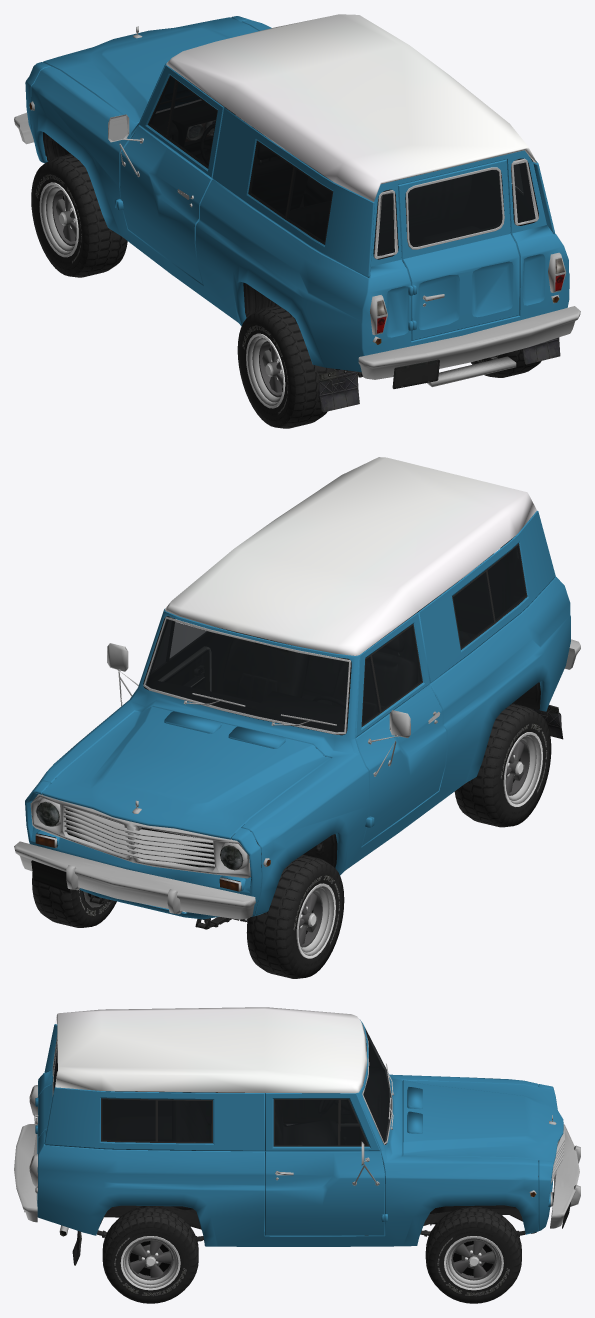
Rendered from car3_wagon_60s.glb.
3 views of the same model, one above another, from view 1: azimuth 30°, elevation 25°; view 2: azimuth 150°, elevation 25°; view 3: azimuth 270°, elevation 25° (orthographic). The views are drawn at different scales.
Visible parts, largest first — view 1: Bokaroo67_Body_BUCKAROO_67_Bodymat_0, Bokaroo67_Bottom_UCB_BOTTOM_0, Bokaroo67_Interior_UCB_Interiors_2_0, Bokaroo67_Hood_BUCKAROO_67_Bodymat_0, Bokaroo67_WheelStock_RL_RO1a_Tire_0, Bokaroo67_WheelStock_FL_RO1a_Tire_0, Bokaroo67_Bodyglass_UCB_Lights_and_Glass_Transperent_0, Bokaroo67_Bumper_rear_UCB_BOTTOM_0, Bokaroo67_rear_door_glass_UCB_Lights_and_Glass_Transperent_0, Bokaroo67_Glass_Driver_UCB_Lights_and_Glass_Transperent_0, Bokaroo67_rear_door_inner_UCB_BOTTOM_0, Bokaroo67_WheelStock_RR_RO1a_Tire_0; view 2: Bokaroo67_Bottom_UCB_BOTTOM_0, Bokaroo67_Body_BUCKAROO_67_Bodymat_0, Bokaroo67_Hood_BUCKAROO_67_Bodymat_0, Bokaroo67_Interior_UCB_Interiors_2_0, Bokaroo67_Windshield_UCB_Lights_and_Glass_Transperent_0, Bokaroo67_WheelStock_FL_RO1a_Tire_0, Bokaroo67_WheelStock_RL_RO1a_Tire_0, Bokaroo67_Bumper_Front_UCB_BOTTOM_0, Bokaroo67_Bodyglass_UCB_Lights_and_Glass_Transperent_0, Bokaroo67_Glass_Driver_UCB_Lights_and_Glass_Transperent_0, Bokaroo67_rear_door_doorcard_UCB_Interiors_2_0, Bokaroo67_WheelStock_FR_RO1a_Tire_0 (+1 smaller); view 3: Bokaroo67_Body_BUCKAROO_67_Bodymat_0, Bokaroo67_Bottom_UCB_BOTTOM_0, Bokaroo67_Hood_BUCKAROO_67_Bodymat_0, Bokaroo67_Interior_UCB_Interiors_2_0, Bokaroo67_WheelStock_RR_RO1a_Tire_0, Bokaroo67_WheelStock_FR_RO1a_Tire_0, Bokaroo67_Bodyglass_UCB_Lights_and_Glass_Transperent_0, Bokaroo67_Glass_Passenger_UCB_Lights_and_Glass_Transperent_0, Bokaroo67_Bumper_Front_UCB_BOTTOM_0, Bokaroo67_Windshield_UCB_Lights_and_Glass_Transperent_0, Bokaroo67_Bumper_rear_UCB_BOTTOM_0.
Boxes of the visible parts, x1=… form: Bokaroo67_Body_BUCKAROO_67_Bodymat_0: x1=25, y1=16, x2=569, y2=372; Bokaroo67_Bottom_UCB_BOTTOM_0: x1=29, y1=14, x2=566, y2=412; Bokaroo67_Interior_UCB_Interiors_2_0: x1=151, y1=101, x2=538, y2=259; Bokaroo67_Hood_BUCKAROO_67_Bodymat_0: x1=43, y1=17, x2=258, y2=123; Bokaroo67_WheelStock_RL_RO1a_Tire_0: x1=237, y1=305, x2=333, y2=428; Bokaroo67_WheelStock_FL_RO1a_Tire_0: x1=31, y1=154, x2=127, y2=277; Bokaroo67_Bodyglass_UCB_Lights_and_Glass_Transperent_0: x1=149, y1=77, x2=535, y2=255; Bokaroo67_Bumper_rear_UCB_BOTTOM_0: x1=358, y1=306, x2=580, y2=388; Bokaroo67_rear_door_glass_UCB_Lights_and_Glass_Transperent_0: x1=408, y1=170, x2=502, y2=246; Bokaroo67_Glass_Driver_UCB_Lights_and_Glass_Transperent_0: x1=168, y1=82, x2=216, y2=166; Bokaroo67_rear_door_inner_UCB_BOTTOM_0: x1=402, y1=167, x2=504, y2=306; Bokaroo67_WheelStock_RR_RO1a_Tire_0: x1=471, y1=349, x2=541, y2=377; Bokaroo67_Bottom_UCB_BOTTOM_0: x1=30, y1=457, x2=563, y2=913; Bokaroo67_Body_BUCKAROO_67_Bodymat_0: x1=25, y1=510, x2=570, y2=919; Bokaroo67_Hood_BUCKAROO_67_Bodymat_0: x1=42, y1=706, x2=330, y2=839; Bokaroo67_Interior_UCB_Interiors_2_0: x1=143, y1=536, x2=526, y2=735; Bokaroo67_Windshield_UCB_Lights_and_Glass_Transperent_0: x1=145, y1=619, x2=348, y2=732; Bokaroo67_WheelStock_FL_RO1a_Tire_0: x1=246, y1=854, x2=344, y2=978; Bokaroo67_WheelStock_RL_RO1a_Tire_0: x1=454, y1=703, x2=551, y2=827; Bokaroo67_Bumper_Front_UCB_BOTTOM_0: x1=14, y1=841, x2=255, y2=919; Bokaroo67_Bodyglass_UCB_Lights_and_Glass_Transperent_0: x1=152, y1=545, x2=526, y2=724; Bokaroo67_Glass_Driver_UCB_Lights_and_Glass_Transperent_0: x1=372, y1=625, x2=421, y2=710; Bokaroo67_rear_door_doorcard_UCB_Interiors_2_0: x1=418, y1=542, x2=508, y2=633; Bokaroo67_WheelStock_FR_RO1a_Tire_0: x1=32, y1=872, x2=116, y2=927; Bokaroo67_Body_BUCKAROO_67_Bodymat_0: x1=35, y1=1020, x2=553, y2=1246; Bokaroo67_Bottom_UCB_BOTTOM_0: x1=24, y1=1007, x2=564, y2=1265; Bokaroo67_Hood_BUCKAROO_67_Bodymat_0: x1=402, y1=1080, x2=563, y2=1162; Bokaroo67_Interior_UCB_Interiors_2_0: x1=55, y1=1037, x2=388, y2=1164; Bokaroo67_WheelStock_RR_RO1a_Tire_0: x1=102, y1=1206, x2=198, y2=1303; Bokaroo67_WheelStock_FR_RO1a_Tire_0: x1=425, y1=1206, x2=521, y2=1303; Bokaroo67_Bodyglass_UCB_Lights_and_Glass_Transperent_0: x1=53, y1=1039, x2=367, y2=1145; Bokaroo67_Glass_Passenger_UCB_Lights_and_Glass_Transperent_0: x1=275, y1=1100, x2=338, y2=1145; Bokaroo67_Bumper_Front_UCB_BOTTOM_0: x1=550, y1=1124, x2=580, y2=1228; Bokaroo67_Windshield_UCB_Lights_and_Glass_Transperent_0: x1=363, y1=1028, x2=391, y2=1142; Bokaroo67_Bumper_rear_UCB_BOTTOM_0: x1=14, y1=1124, x2=37, y2=1222.
Bounding box in the file's own units: 2.41 × 2.13 × 4.99.
Materials: 6 (5 with a texture image).
